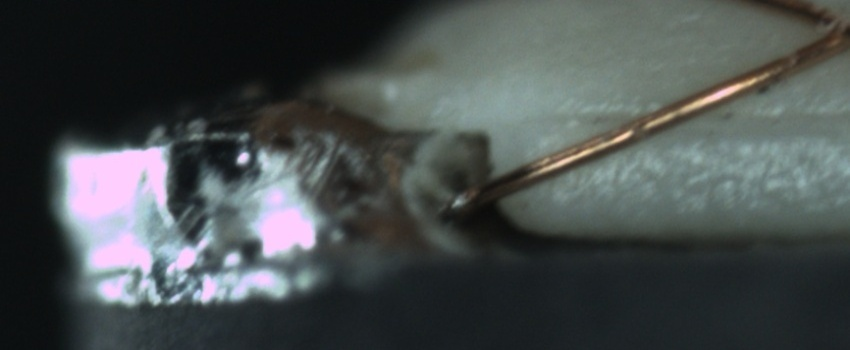CL: (796, 3, 850, 60)
DL: (553, 86, 846, 156)
